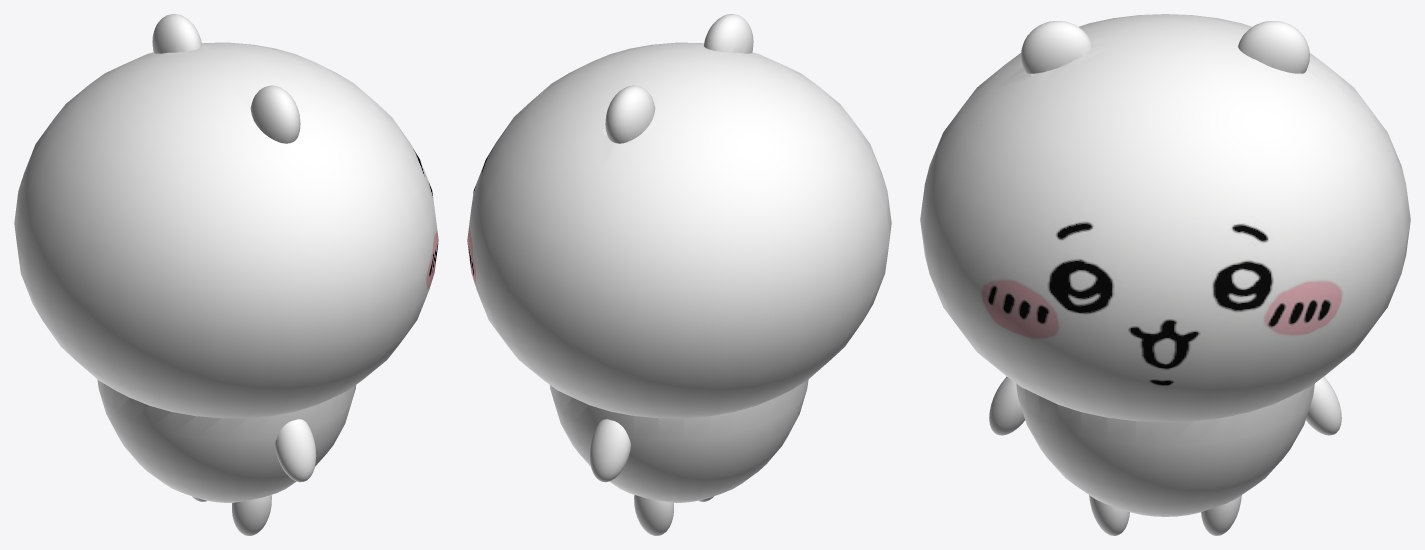
The model's file is chiikawa.glb.
3 renders of one model, left to right at view 1: azimuth 30°, elevation 25°; view 2: azimuth 150°, elevation 25°; view 3: azimuth 270°, elevation 25°, orthographic. The views are drawn at different scales.
Parts seen in each view (by area): view 1: body, leftHand, leftFoot; view 2: body, rightHand, leftFoot.001; view 3: body, leftHand, rightHand, leftFoot, leftFoot.001.
Boxes of the visible parts, x1,y1,x2,y2 form: body: [14, 14, 438, 502]; leftHand: [275, 419, 316, 482]; leftFoot: [232, 495, 271, 535]; body: [467, 14, 891, 502]; rightHand: [589, 419, 630, 482]; leftFoot.001: [634, 495, 673, 535]; body: [920, 14, 1410, 516]; leftHand: [989, 376, 1024, 435]; rightHand: [1306, 376, 1341, 435]; leftFoot: [1089, 495, 1129, 535]; leftFoot.001: [1201, 495, 1241, 535].
Bounding box in the file's own units: 1.78 × 2.19 × 1.9.
Materials: 5 (1 with a texture image).
